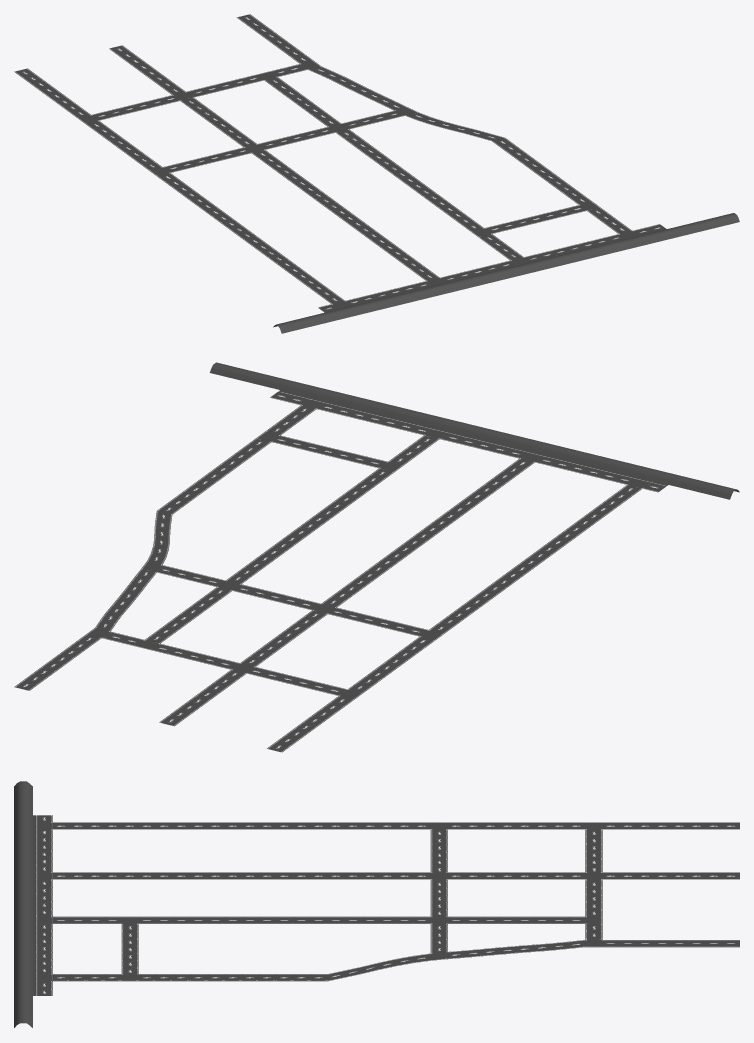
File: load_01.fbx
The picture shows the model from 3 angles, top to bottom: view 1: azimuth 30°, elevation 25°; view 2: azimuth 150°, elevation 25°; view 3: azimuth 270°, elevation 25°; orthographic projection. The views are drawn at different scales.
Visible parts, largest first — view 1: polySurface479; view 2: polySurface479; view 3: polySurface479.
Part boxes in pixels (x1,y1,x2,y2): polySurface479: (14,14,739,333); polySurface479: (14,362,739,752); polySurface479: (14,781,739,1027).
Size of the model in its own units: 300 by 3.1 by 380.
